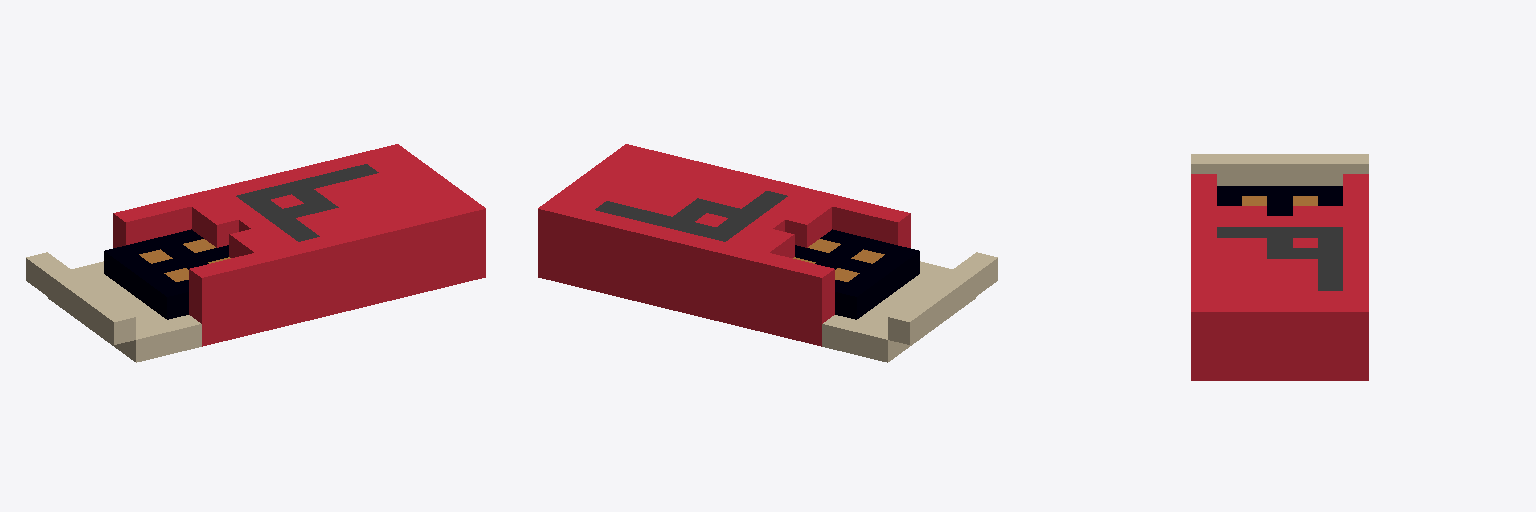
3 renders of one model, left to right at view 1: azimuth 30°, elevation 25°; view 2: azimuth 150°, elevation 25°; view 3: azimuth 270°, elevation 25°, orthographic.
Visible parts, largest first — view 1: object 1; view 2: object 1; view 3: object 1.
Boxes of the visible parts, box(x1,y1,x2,y2) form: object 1: box(26, 144, 485, 362); object 1: box(538, 144, 997, 362); object 1: box(1191, 154, 1368, 380).
Size of the model in its own units: 1.7 by 0.3 by 0.7.
Materials: 1 (1 with a texture image).